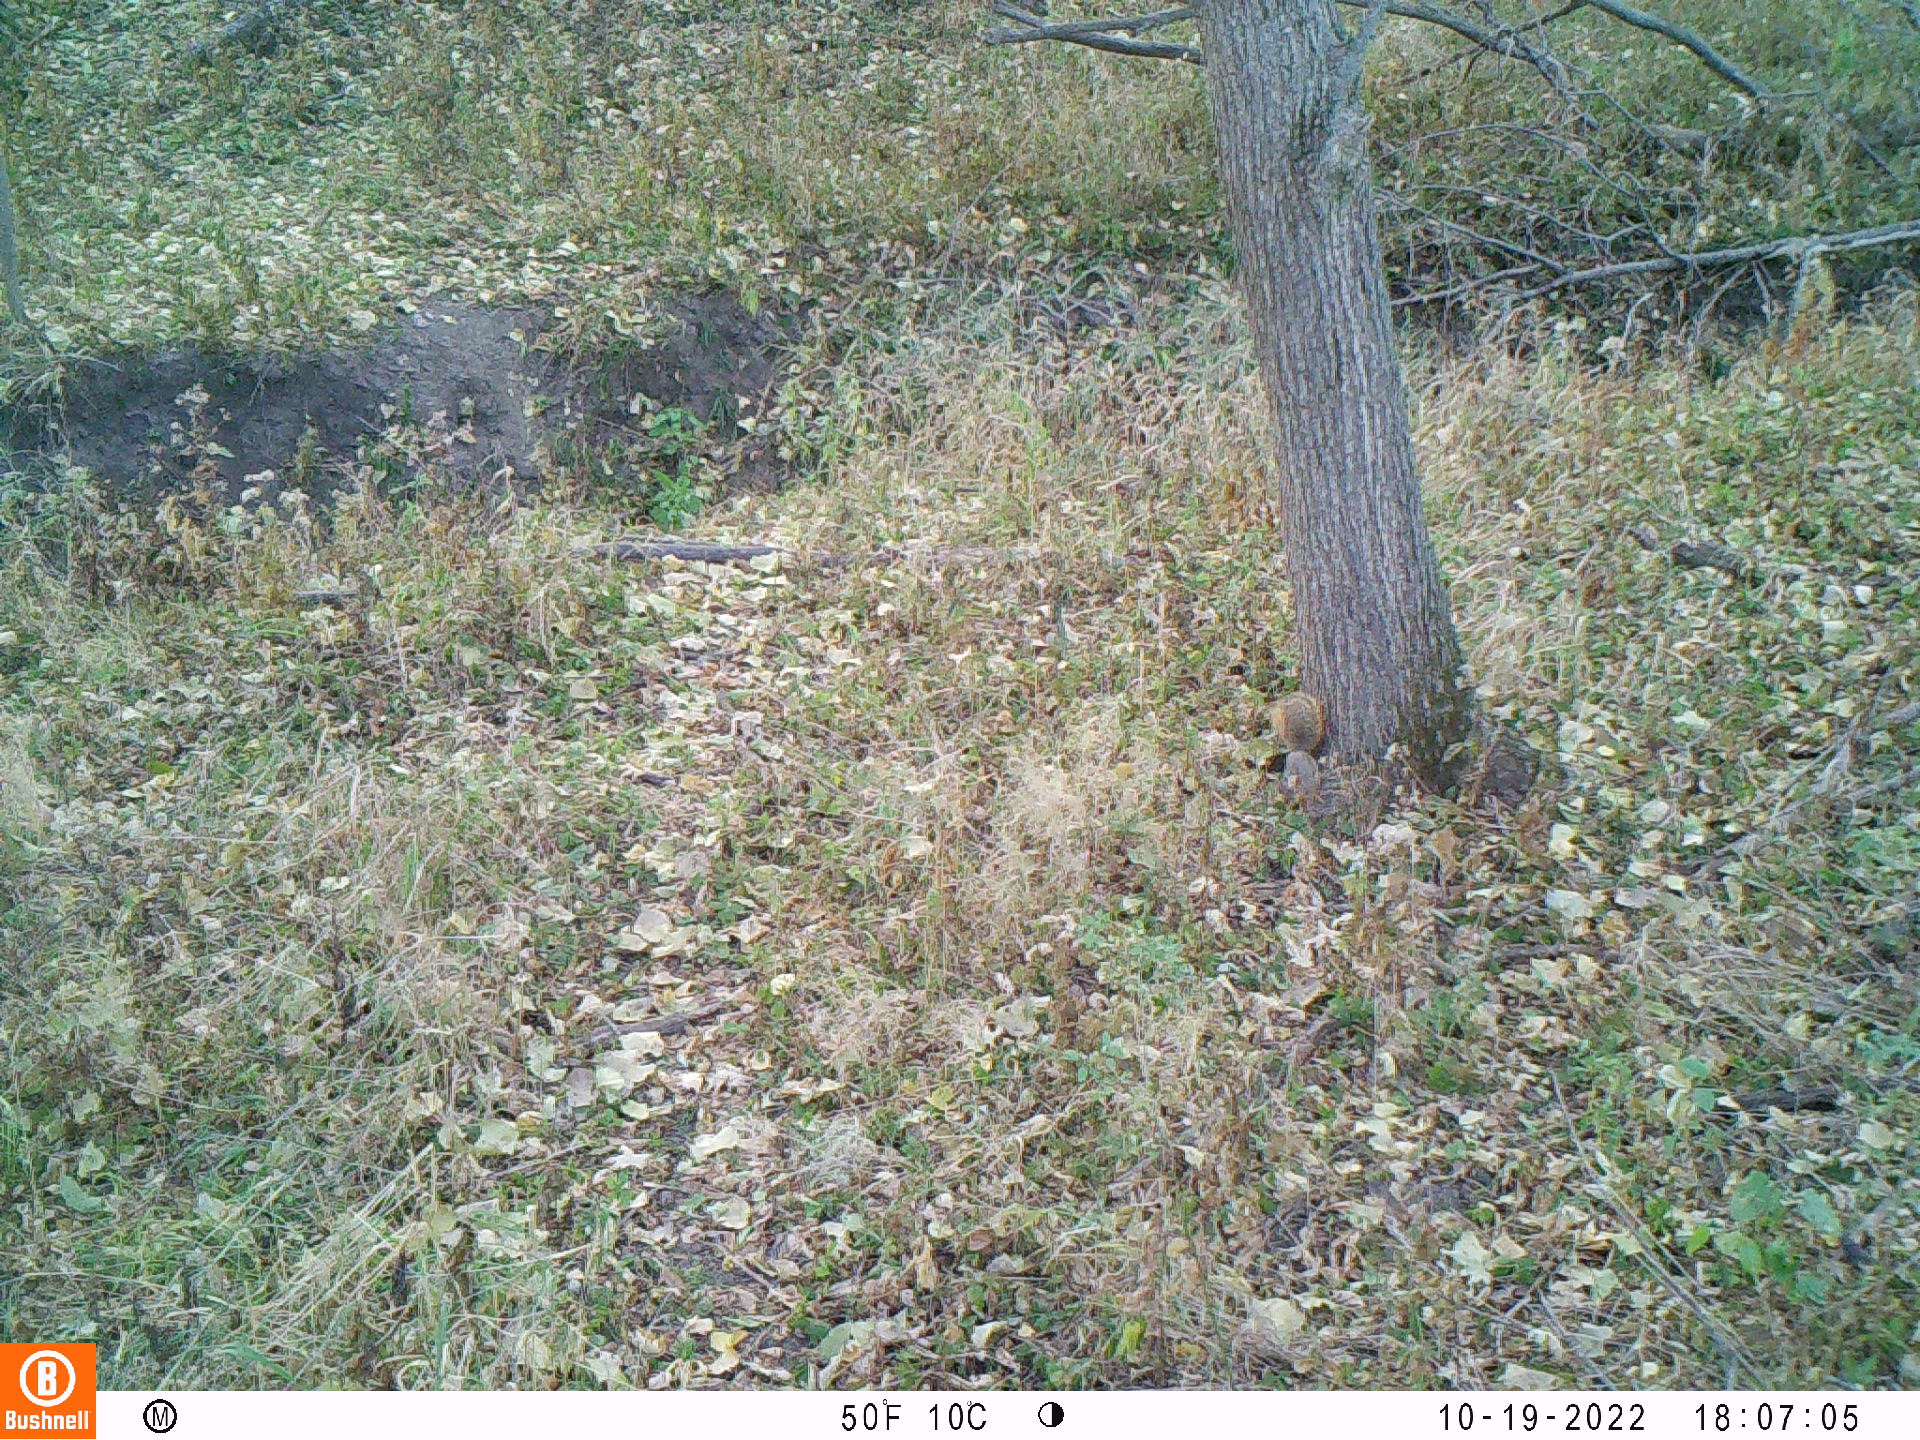Squirrel: (1268, 685, 1330, 802)
